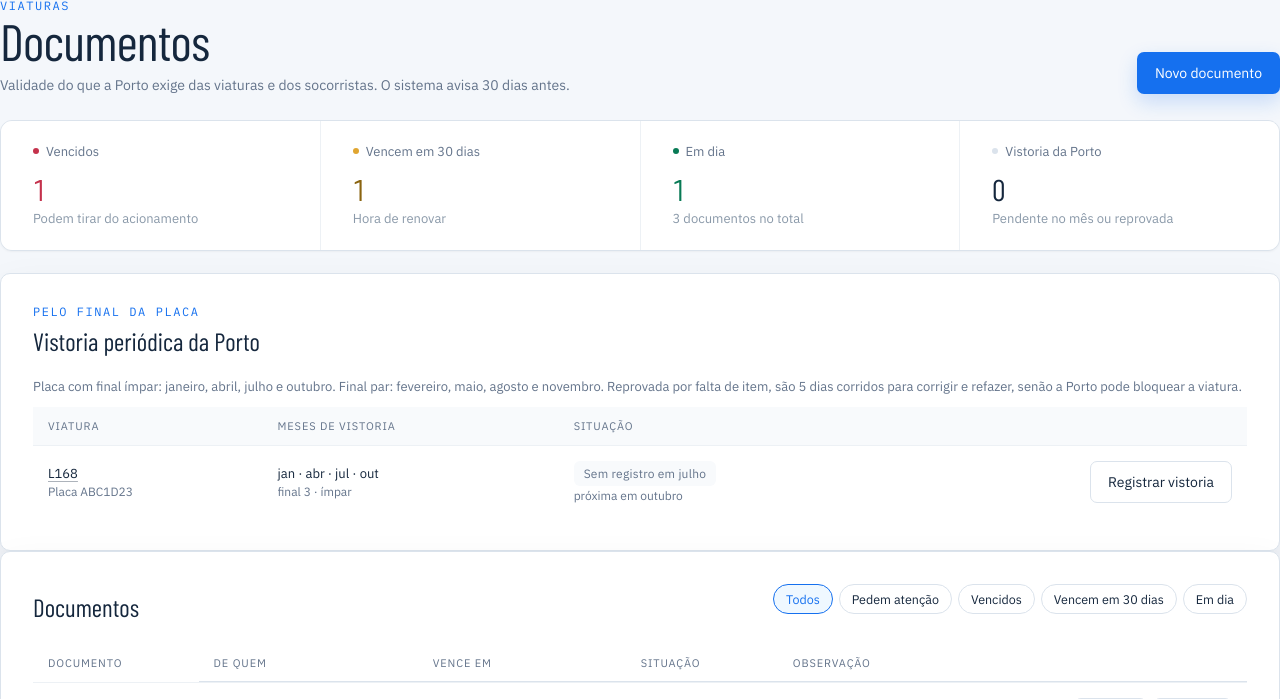
Scenario: vistoria da Porto sai da placa e se registra na tela
Expected: the 1st heading "Documentos" is shown, [0,10,209,71]
Expected: the text "jan · abr · jul · out" is shown, [278,466,379,482]
Click the button "Registrar vistoria". click: (1161, 482)
box: [1090,462,1232,504]
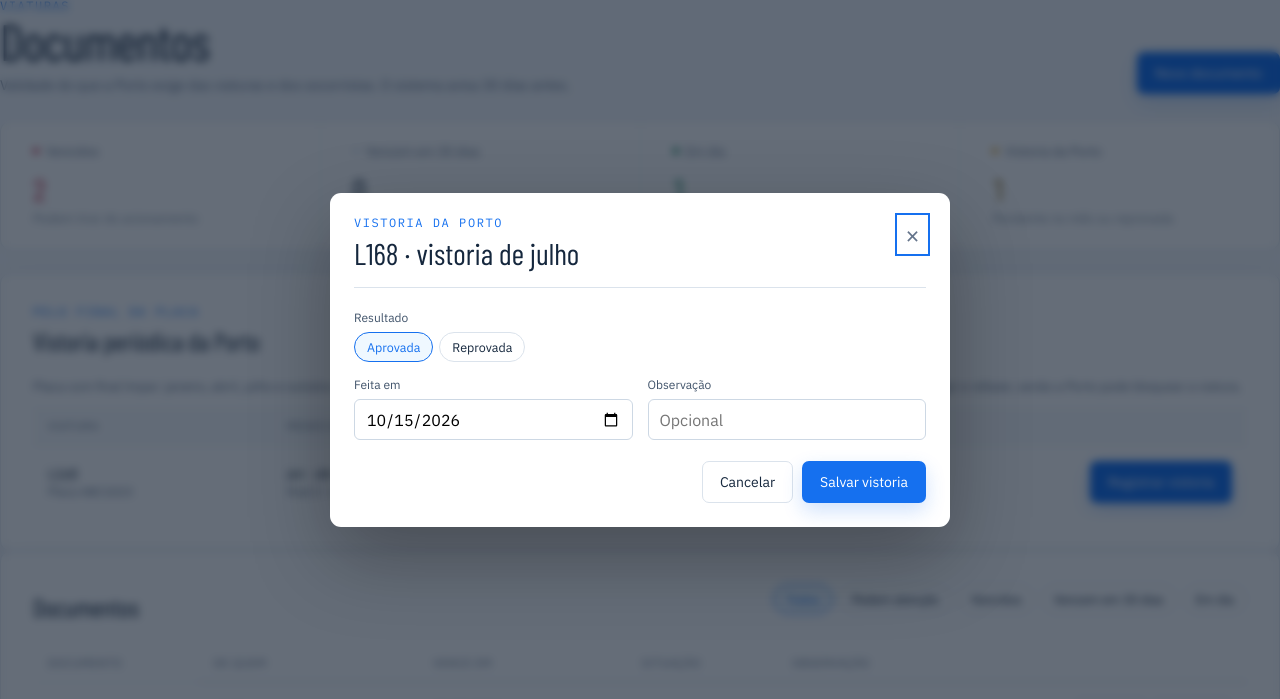
Click the radio button labelled "Reprovada". click: (482, 347)
box: [439,332,525,362]
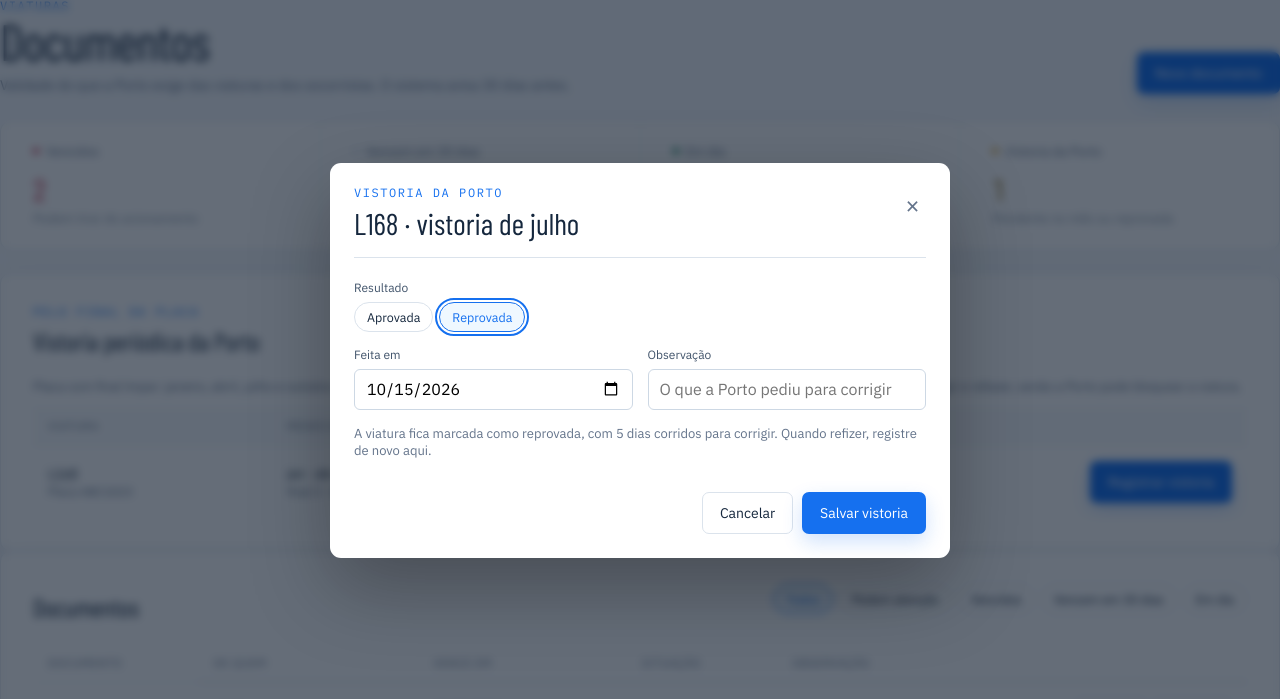
Click the button "Salvar vistoria". click: (864, 512)
box: [802,492,926,534]
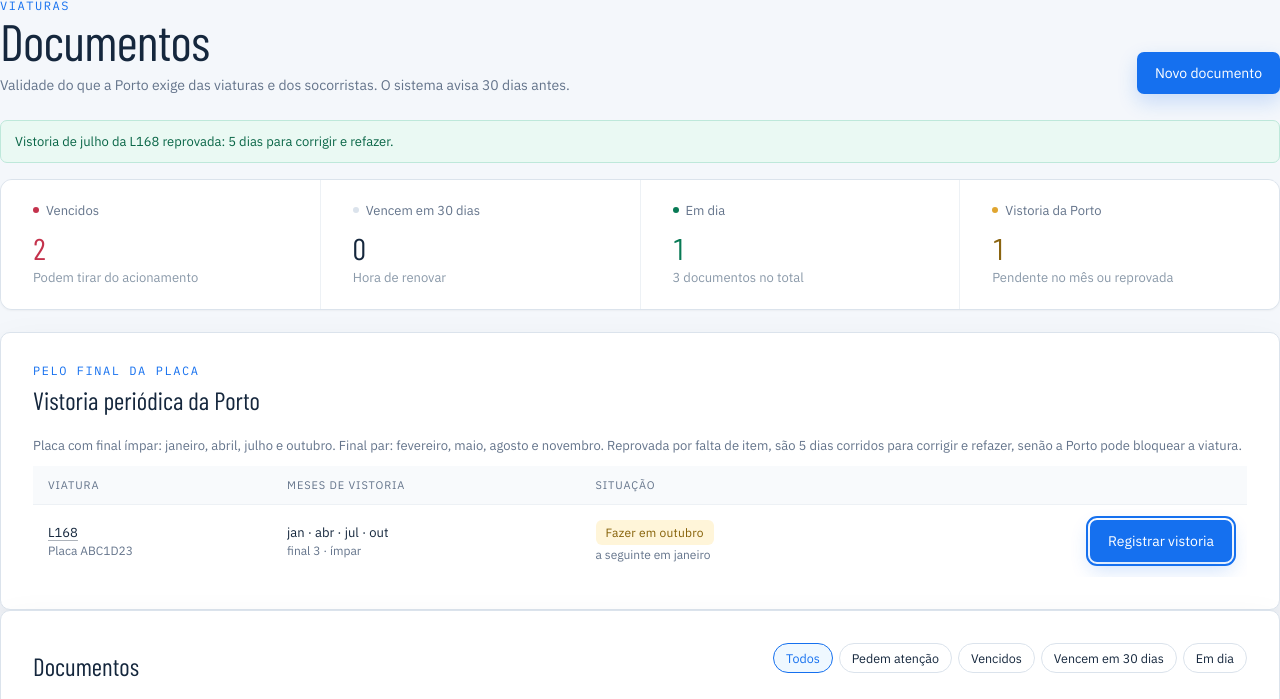
Now the text "Vistoria de julho da L168 reprovada: 5 dias para corrigir e refazer." is shown, box [0,120,1279,163]
